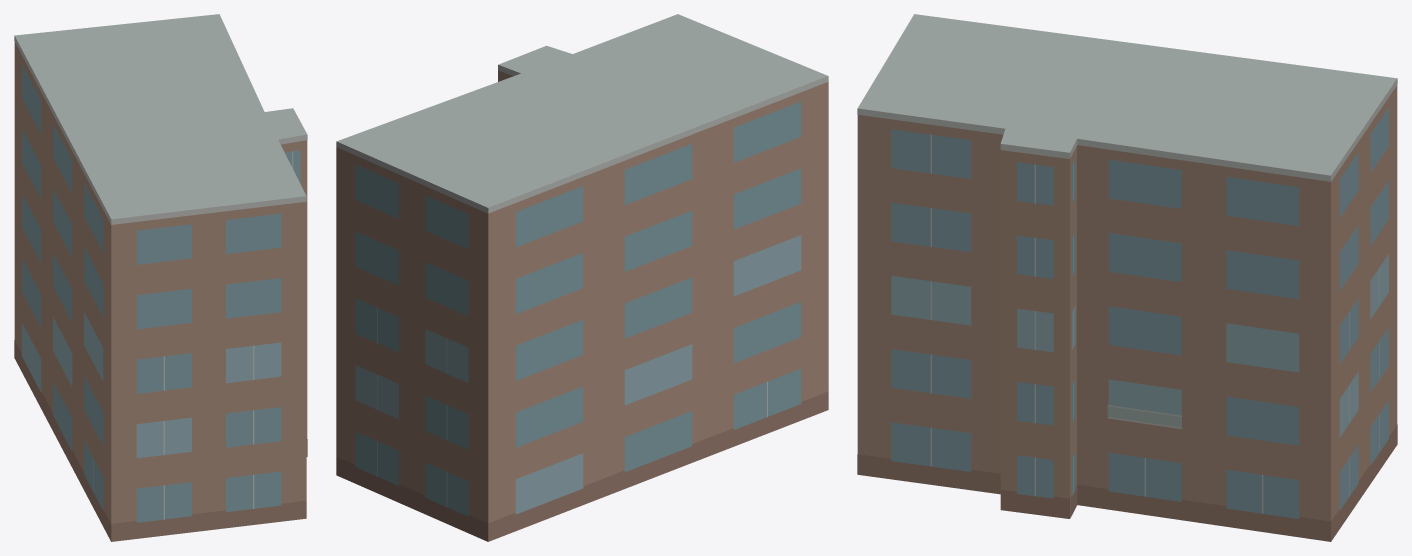
The model's file is survey-upis-32787471.glb.
The picture shows the model from 3 angles, left to right: view 1: azimuth 30°, elevation 25°; view 2: azimuth 150°, elevation 25°; view 3: azimuth 270°, elevation 25°; orthographic projection. The views are drawn at different scales.
Visible parts, largest first — view 1: survey-upis-32787471.tmp; view 2: survey-upis-32787471.tmp; view 3: survey-upis-32787471.tmp.
Part boxes in pixels (bbox=[...]): survey-upis-32787471.tmp: bbox=[14, 14, 307, 541]; survey-upis-32787471.tmp: bbox=[336, 14, 828, 541]; survey-upis-32787471.tmp: bbox=[857, 14, 1397, 541].
Bounding box in the file's own units: 13.55 × 14.3 × 19.12.
